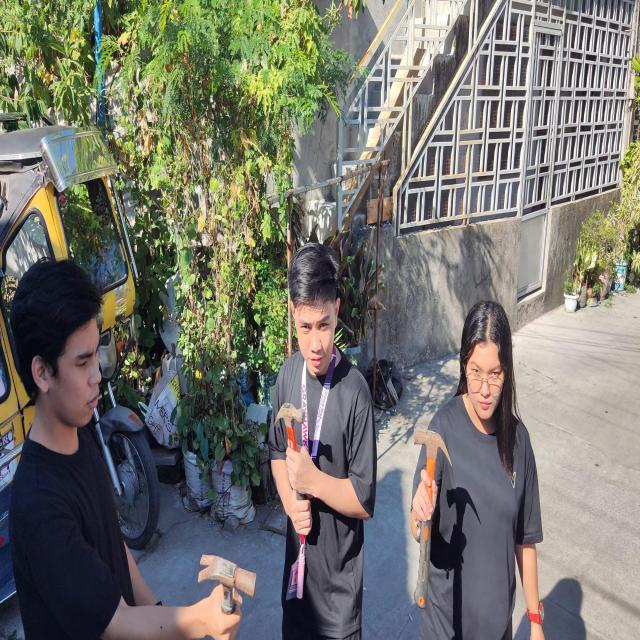hammer: (413, 428, 452, 609), (198, 553, 256, 616), (274, 402, 306, 500)
